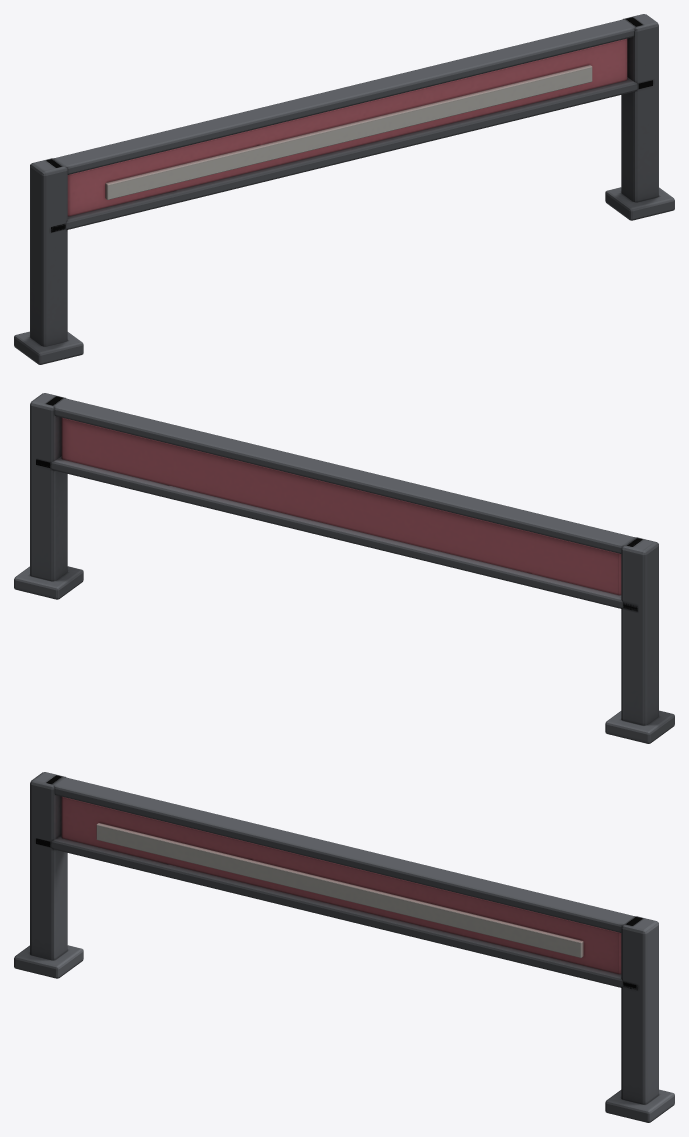
File: hoarding.glb
3 renders of one model, top to bottom at view 1: azimuth 30°, elevation 25°; view 2: azimuth 150°, elevation 25°; view 3: azimuth 330°, elevation 25°, orthographic.
Visible parts, largest first — view 1: hoarding; view 2: hoarding; view 3: hoarding.
Boxes of the visible parts, bbox=[...] form: hoarding: bbox=[14, 14, 674, 364]; hoarding: bbox=[14, 393, 674, 743]; hoarding: bbox=[14, 772, 674, 1122].
Bounding box in the file's own units: 8.4 × 2.35 × 0.6.
Materials: 3 (3 with a texture image).
